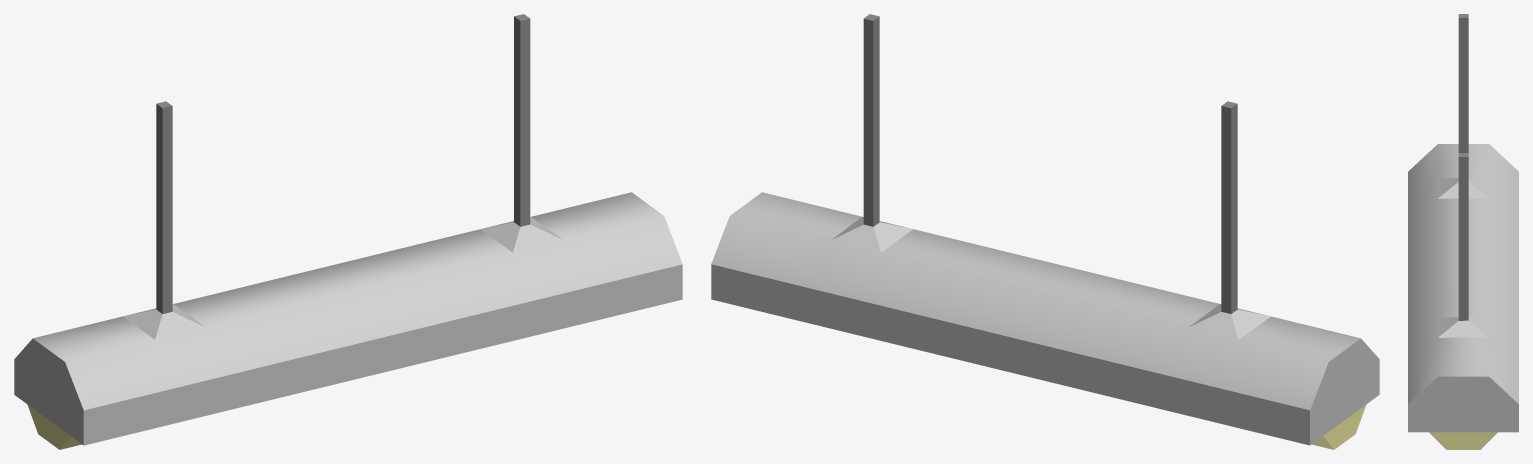
File: Twin_cellinglight.fbx
The picture shows the model from 3 angles, left to right: view 1: azimuth 30°, elevation 25°; view 2: azimuth 150°, elevation 25°; view 3: azimuth 270°, elevation 25°; orthographic projection. The views are drawn at different scales.
Parts seen in each view (by area): view 1: pCube1; view 2: pCube1; view 3: pCube1.
Part boxes in pixels (x1,y1,x2,y2): pCube1: (14,14,682,449); pCube1: (711,14,1379,449); pCube1: (1408,14,1518,449).
Size of the model in its own units: 50.96 by 25.13 by 10.26.
